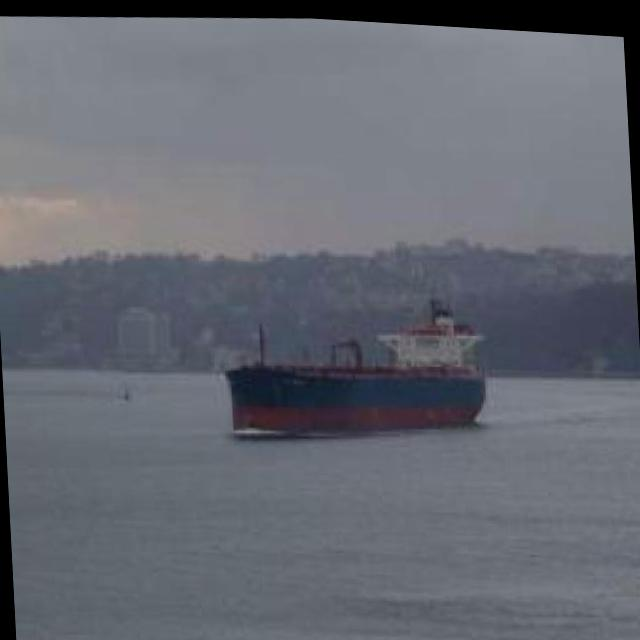ship2: (225, 290, 487, 430)
